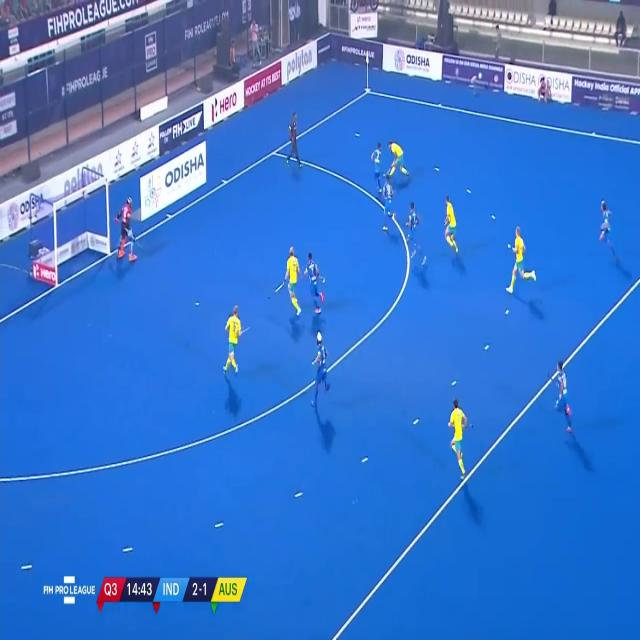ball: (382, 170, 386, 178)
